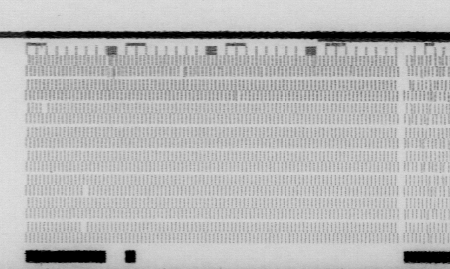Broken hole: (39, 101, 52, 114), (78, 220, 90, 233), (80, 184, 92, 196)
Oblique printing: (406, 49, 450, 150), (415, 162, 450, 187), (102, 54, 120, 79), (422, 221, 435, 246), (306, 54, 319, 69), (256, 65, 270, 78), (176, 65, 189, 78), (424, 208, 436, 222), (231, 88, 244, 100)
